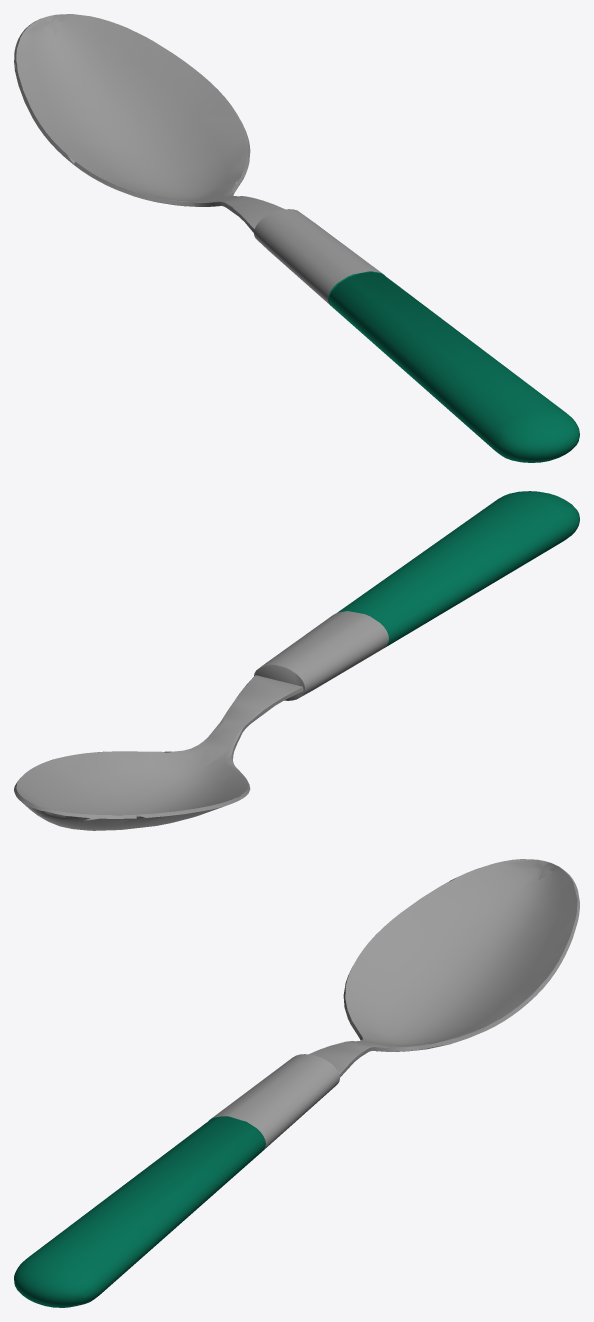
Rendered from Spoon.FBX.
The picture shows the model from 3 angles, top to bottom: view 1: azimuth 30°, elevation 25°; view 2: azimuth 150°, elevation 25°; view 3: azimuth 330°, elevation 25°; orthographic projection.
Visible parts, largest first — view 1: spoon; view 2: spoon; view 3: spoon.
Boxes of the visible parts, left/top/right/bottom form: spoon: left=14, top=14, right=579, bottom=462; spoon: left=14, top=491, right=579, bottom=830; spoon: left=14, top=859, right=579, bottom=1307.
Size of the model in its own units: 4.18 by 1.95 by 20.88.
